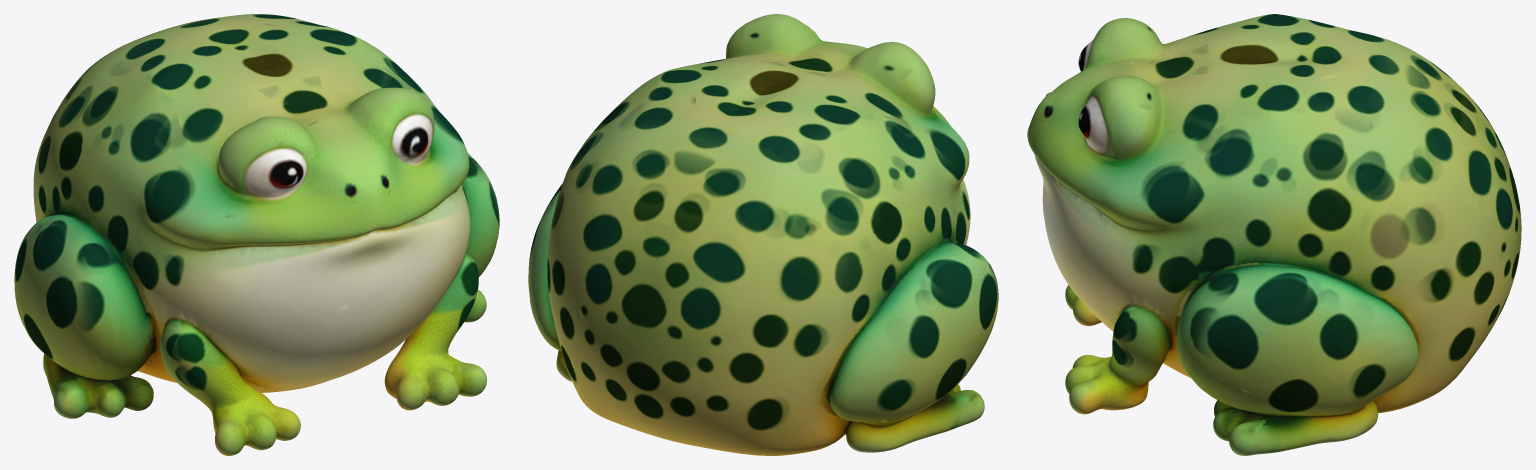
File: goodcase0304_190.glb
3 views of the same model, side by side, from view 1: azimuth 30°, elevation 25°; view 2: azimuth 150°, elevation 25°; view 3: azimuth 270°, elevation 25° (orthographic). The views are drawn at different scales.
Parts seen in each view (by area): view 1: object.001; view 2: object.001; view 3: object.001.
Boxes of the visible parts, left/top/right/bottom form: object.001: left=14, top=14, right=499, bottom=455; object.001: left=528, top=14, right=998, bottom=455; object.001: left=1027, top=14, right=1521, bottom=455.
Size of the model in its own units: 0.9746 by 0.6644 by 0.9646.
Materials: 1 (1 with a texture image).
